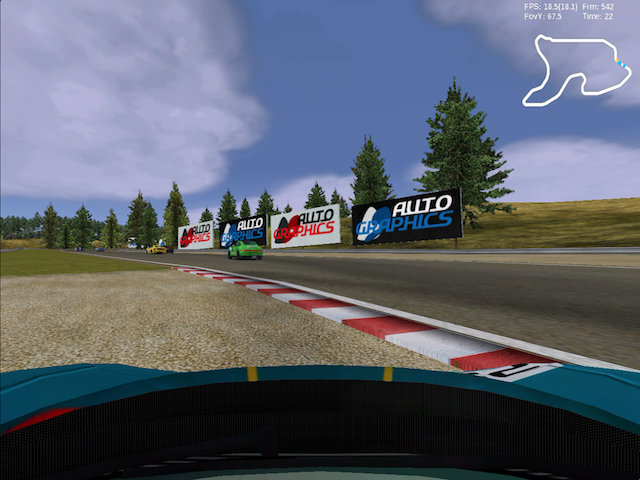Boxer96: (226, 241, 264, 260)
Cavallo360: (145, 246, 167, 255)
